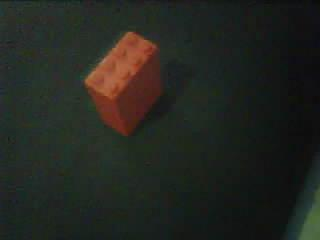lego: (82, 30, 164, 136)
